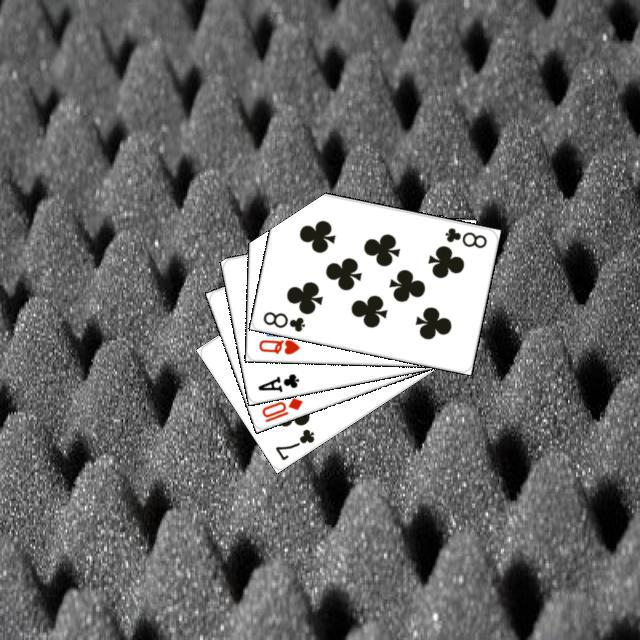10d: (257, 393, 304, 424)
7c: (270, 424, 316, 462)
8c: (258, 306, 307, 333), (440, 223, 489, 250)
Ac: (253, 368, 301, 394)
Qh: (254, 335, 301, 356)
